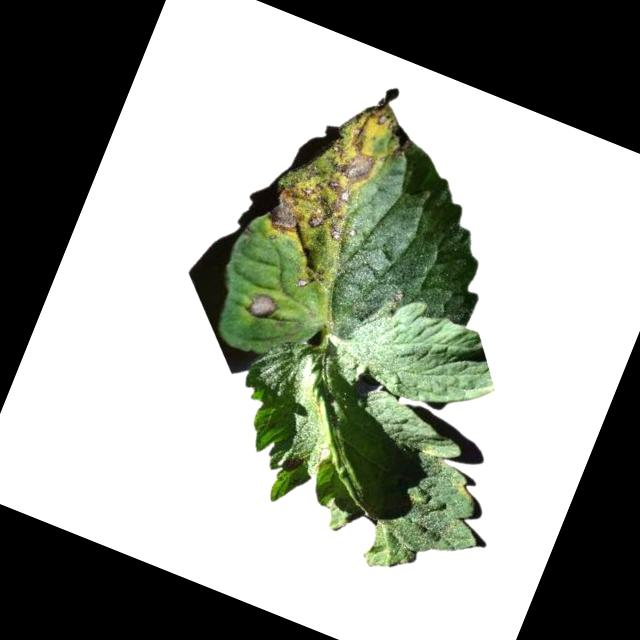Early_blight: (262, 77, 422, 266), (243, 288, 281, 323), (294, 259, 327, 293), (280, 451, 305, 477)
